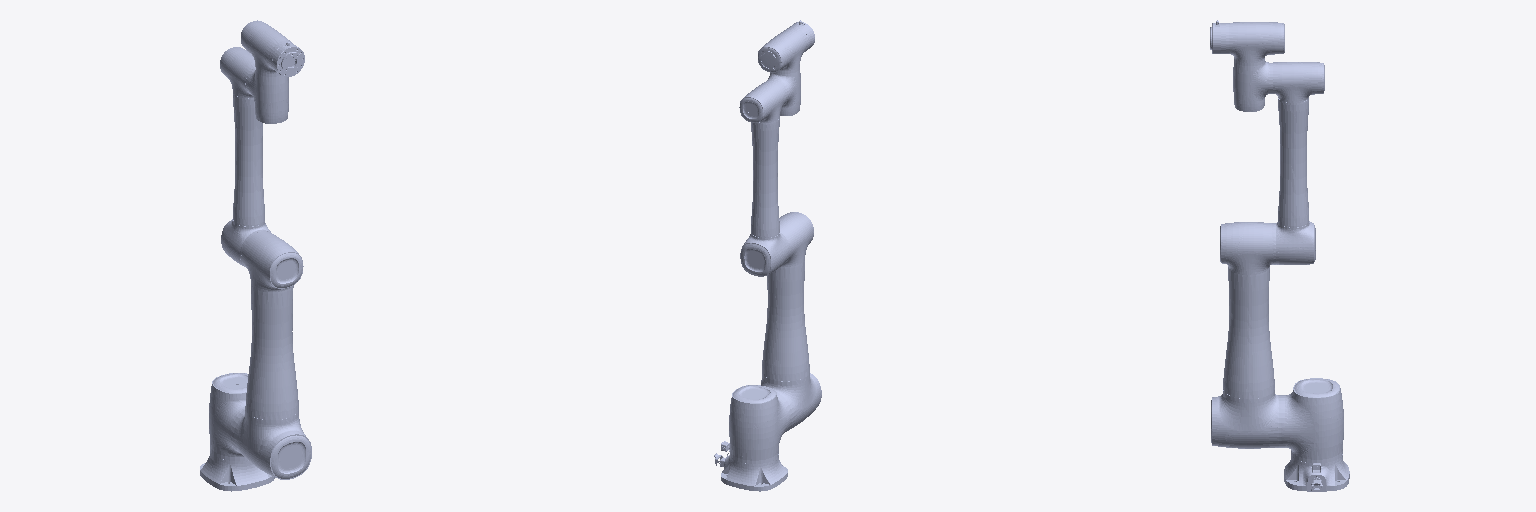
The robot description file, URDF, robot "cr12_robot":
<?xml version="1.0" ?>
<!-- This URDF was automatically created by SolidWorks to URDF Exporter! Originally created by [author] ([email redacted]) 
     Commit Version: 1.6.0-1-g15f4949  Build Version: 1.6.7594.29634
     For more information, please see http://wiki.ros.org/sw_urdf_exporter -->
<robot name="cr12_robot">
    <link name="dummy_link" />
    <link name="base_link">
        <inertial>
            <origin xyz="-0.00174386341900778 -4.3102660432092E-06 0.0327740188891512" rpy="0 0 0" />
            <mass value="1.82652439038323" />
            <inertia ixx="0.00417310093970523" ixy="5.83590024362277E-07" ixz="2.52017746820122E-05" iyy="0.00431292894874216" iyz="-5.50196168357807E-07" izz="0.00677037749045351" />
        </inertial>
        <visual>
            <origin xyz="0 0 0" rpy="0 0 3.1415926" />
            <geometry>
                <mesh filename="package://dobot_description/meshes/cr12/base_link0.STL" />
            </geometry>
            <material name="">
                <color rgba="0.792156862745098 0.819607843137255 0.933333333333333 1" />
            </material>
        </visual>
        <collision>
            <origin xyz="0 0 0" rpy="0 0 0" />
            <geometry>
                <mesh filename="package://dobot_description/meshes/cr12/base_link0.STL" />
            </geometry>
        </collision>
    </link>
    <joint name="dummy_joint" type="fixed">
        <parent link="dummy_link" />
        <child link="base_link" />
    </joint>
    <link name="Link1">
        <inertial>
            <origin xyz="-1.37534797728969E-06 -0.010818985747522 0.00283913459985077" rpy="0 0 0" />
            <mass value="4.16489342634843" />
            <inertia ixx="0.0207143914764674" ixy="-1.71477265326949E-07" ixz="1.48900578943356E-07" iyy="0.0188243425992646" iyz="-9.67726083488097E-05" izz="0.0145747311500779" />
        </inertial>
        <visual>
            <origin xyz="0 0 0" rpy="0 0 0" />
            <geometry>
                <mesh filename="package://dobot_description/meshes/cr12/J1.STL" />
            </geometry>
            <material name="">
                <color rgba="0.792156862745098 0.819607843137255 0.933333333333333 1" />
            </material>
        </visual>
        <collision>
            <origin xyz="0 0 0" rpy="0 0 0" />
            <geometry>
                <mesh filename="package://dobot_description/meshes/cr12/J1.STL" />
            </geometry>
        </collision>
    </link>
    <joint name="joint1" type="revolute">
        <origin xyz="0 0 0.1765" rpy="0 0 0" />
        <parent link="base_link" />
        <child link="Link1" />
        <axis xyz="0 0 1" />
        <limit lower="-6.28" upper="6.28" effort="0" velocity="0" />
    </joint>
    <link name="Link2">
        <inertial>
            <origin xyz="-0.223767091035558 1.97703924756219E-06 0.195156050522682" rpy="0 0 0" />
            <mass value="10.7566467621837" />
            <inertia ixx="0.0326526063620568" ixy="-1.51156258660237E-07" ixz="-0.000223174773070963" iyy="0.090350086723318" iyz="-3.82558055552048E-08" izz="0.0832869144009416" />
        </inertial>
        <visual>
            <origin xyz="0 0 0" rpy="0 0 0" />
            <geometry>
                <mesh filename="package://dobot_description/meshes/cr12/J2.STL" />
            </geometry>
            <material name="">
                <color rgba="0.792156862745098 0.819607843137255 0.933333333333333 1" />
            </material>
        </visual>
        <collision>
            <origin xyz="0 0 0" rpy="0 0 0" />
            <geometry>
                <mesh filename="package://dobot_description/meshes/cr12/J2.STL" />
            </geometry>
        </collision>
    </link>
    <joint name="joint2" type="revolute">
        <origin xyz="0 0 0" rpy="-1.57079631189374 1.57079631189374 3.14159265358979" />
        <parent link="Link1" />
        <child link="Link2" />
        <axis xyz="0 0 1" />
        <limit lower="-6.28" upper="6.28" effort="0" velocity="0" />
    </joint>
    <link name="Link3">
        <inertial>
            <origin xyz="-0.24640374456178 -0.000510146477780238 -0.00440945988898146" rpy="0 0 0" />
            <mass value="4.44492218267047" />
            <inertia ixx="0.00647901084166721" ixy="-1.29118176753282E-05" ixz="-6.6427420024956E-05" iyy="0.0324286706770424" iyz="-3.14906273861604E-08" izz="0.0313147150452366" />
        </inertial>
        <visual>
            <origin xyz="0 0 0" rpy="0 0 0" />
            <geometry>
                <mesh filename="package://dobot_description/meshes/cr12/J3.STL" />
            </geometry>
            <material name="">
                <color rgba="0.792156862745098 0.819607843137255 0.933333333333333 1" />
            </material>
        </visual>
        <collision>
            <origin xyz="0 0 0" rpy="0 0 0" />
            <geometry>
                <mesh filename="package://dobot_description/meshes/cr12/J3.STL" />
            </geometry>
        </collision>
    </link>
    <joint name="joint3" type="revolute">
        <origin xyz="-0.557 0 0.066" rpy="0 0 0" />
        <parent link="Link2" />
        <child link="Link3" />
        <axis xyz="0 0 1" />
        <limit lower="-2.79" upper="2.79" effort="0" velocity="0" />
    </joint>
    <link name="Link4">
        <inertial>
            <origin xyz="-7.01031581606983E-07 0.00798722726876111 -0.00589109083017275" rpy="0 0 0" />
            <mass value="1.16884432986471" />
            <inertia ixx="0.0029261465071409" ixy="1.22319250229627E-08" ixz="-8.63788919827346E-09" iyy="0.0015005661839772" iyz="-5.45038632945467E-05" izz="0.00273281041224196" />
        </inertial>
        <visual>
            <origin xyz="0 0 0" rpy="0 0 0" />
            <geometry>
                <mesh filename="package://dobot_description/meshes/cr12/J4.STL" />
            </geometry>
            <material name="">
                <color rgba="0.792156862745098 0.819607843137255 0.933333333333333 1" />
            </material>
        </visual>
        <collision>
            <origin xyz="0 0 0" rpy="0 0 0" />
            <geometry>
                <mesh filename="package://dobot_description/meshes/cr12/J4.STL" />
            </geometry>
        </collision>
    </link>
    <joint name="joint4" type="revolute">
        <origin xyz="-0.518 0 0.125" rpy="0 0 -1.5707963267949" />
        <parent link="Link3" />
        <child link="Link4" />
        <axis xyz="0 0 1" />
        <limit lower="-6.28" upper="6.28" effort="0" velocity="0" />
    </joint>
    <link name="Link5">
        <inertial>
            <origin xyz="1.64458124565686E-06 -0.0145441441749841 -0.00455069032206956" rpy="0 0 0" />
            <mass value="1.22295412816384" />
            <inertia ixx="0.0033787624110679" ixy="1.10205449778373E-07" ixz="-6.92742655995963E-08" iyy="0.00149245257753668" iyz="8.40896480888549E-05" izz="0.00323280819225504" />
        </inertial>
        <visual>
            <origin xyz="0 0 0" rpy="0 0 0" />
            <geometry>
                <mesh filename="package://dobot_description/meshes/cr12/J5.STL" />
            </geometry>
            <material name="">
                <color rgba="0.792156862745098 0.819607843137255 0.933333333333333 1" />
            </material>
        </visual>
        <collision>
            <origin xyz="0 0 0" rpy="0 0 0" />
            <geometry>
                <mesh filename="package://dobot_description/meshes/cr12/J5.STL" />
            </geometry>
        </collision>
    </link>
    <joint name="joint5" type="revolute">
        <origin xyz="0 -0.125 0" rpy="1.5707963267949 0 0" />
        <parent link="Link4" />
        <child link="Link5" />
        <axis xyz="0 0 0.999999999998195" />
        <limit lower="-6.28" upper="6.28" effort="0" velocity="0" />
    </joint>
    <link name="Link6">
        <inertial>
            <origin xyz="-9.58443207154593E-07 2.26928935573856E-05 -0.0207179881601325" rpy="0 0 0" />
            <mass value="0.207145060608753" />
            <inertia ixx="0.000111982690153381" ixy="-1.49955926525001E-12" ixz="-9.29699383821086E-10" iyy="0.000112529567571298" iyz="3.68689126983289E-08" izz="0.000208486247949099" />
        </inertial>
        <visual>
            <origin xyz="0 0 0" rpy="0 0 0" />
            <geometry>
                <mesh filename="package://dobot_description/meshes/cr12/J6.STL" />
            </geometry>
            <material name="">
                <color rgba="0.792156862745098 0.819607843137255 0.933333333333333 1" />
            </material>
        </visual>
        <collision>
            <origin xyz="0 0 0" rpy="0 0 0" />
            <geometry>
                <mesh filename="package://dobot_description/meshes/cr12/J6.STL" />
            </geometry>
        </collision>
    </link>
    <joint name="joint6" type="revolute">
        <origin xyz="0 0.111400161474884 0" rpy="-1.5707963267949 0 0" />
        <parent link="Link5" />
        <child link="Link6" />
        <axis xyz="0 0 1" />
        <limit lower="-6.28" upper="6.28" effort="0" velocity="0" />
    </joint>
    <transmission name="trans_joint1">
        <type>transmission_interface/SimpleTransmission</type>
        <joint name="joint1">
            <hardwareInterface>hardware_interface/EffortJointInterface</hardwareInterface>
        </joint>
        <actuator name="joint1_motor">
            <hardwareInterface>hardware_interface/EffortJointInterface</hardwareInterface>
            <mechanicalReduction>1</mechanicalReduction>
        </actuator>
    </transmission>
    <transmission name="trans_joint2">
        <type>transmission_interface/SimpleTransmission</type>
        <joint name="joint2">
            <hardwareInterface>hardware_interface/EffortJointInterface</hardwareInterface>
        </joint>
        <actuator name="joint2_motor">
            <hardwareInterface>hardware_interface/EffortJointInterface</hardwareInterface>
            <mechanicalReduction>1</mechanicalReduction>
        </actuator>
    </transmission>
    <transmission name="trans_joint3">
        <type>transmission_interface/SimpleTransmission</type>
        <joint name="joint3">
            <hardwareInterface>hardware_interface/EffortJointInterface</hardwareInterface>
        </joint>
        <actuator name="joint3_motor">
            <hardwareInterface>hardware_interface/EffortJointInterface</hardwareInterface>
            <mechanicalReduction>1</mechanicalReduction>
        </actuator>
    </transmission>
    <transmission name="trans_joint4">
        <type>transmission_interface/SimpleTransmission</type>
        <joint name="joint4">
            <hardwareInterface>hardware_interface/EffortJointInterface</hardwareInterface>
        </joint>
        <actuator name="joint4_motor">
            <hardwareInterface>hardware_interface/EffortJointInterface</hardwareInterface>
            <mechanicalReduction>1</mechanicalReduction>
        </actuator>
    </transmission>
    <transmission name="trans_joint5">
        <type>transmission_interface/SimpleTransmission</type>
        <joint name="joint5">
            <hardwareInterface>hardware_interface/EffortJointInterface</hardwareInterface>
        </joint>
        <actuator name="joint5_motor">
            <hardwareInterface>hardware_interface/EffortJointInterface</hardwareInterface>
            <mechanicalReduction>1</mechanicalReduction>
        </actuator>
    </transmission>
    <transmission name="trans_joint6">
        <type>transmission_interface/SimpleTransmission</type>
        <joint name="joint6">
            <hardwareInterface>hardware_interface/EffortJointInterface</hardwareInterface>
        </joint>
        <actuator name="joint6_motor">
            <hardwareInterface>hardware_interface/EffortJointInterface</hardwareInterface>
            <mechanicalReduction>1</mechanicalReduction>
        </actuator>
    </transmission>
    <gazebo>
        <plugin name="gazebo_ros_control">
            <robotNamespace>/</robotNamespace>
        </plugin>
    </gazebo>
</robot>

--- Render facts (derived) ---
Views: 3 orthographic renders of the robot side by side, from view 1: azimuth 30°, elevation 25°; view 2: azimuth 150°, elevation 25°; view 3: azimuth 270°, elevation 25°.
Robot: cr12_robot — 8 links, 7 joints (6 revolute, 1 fixed); root link dummy_link; default pose: every joint at zero.
Visible links, largest first — view 1: Link2, Link3, Link1, Link4, base_link, Link5, Link6; view 2: Link2, Link3, Link1, base_link, Link5, Link4; view 3: Link2, Link3, Link1, Link5, base_link, Link4.
Link boxes in pixels (<box>): Link2: <box>232,230,311,479</box>; Link3: <box>220,47,270,266</box>; Link1: <box>209,373,247,460</box>; Link4: <box>246,67,288,123</box>; base_link: <box>200,451,274,491</box>; Link5: <box>241,20,291,73</box>; Link6: <box>270,42,304,76</box>; Link2: <box>761,212,821,431</box>; Link3: <box>739,79,789,276</box>; Link1: <box>729,385,791,463</box>; base_link: <box>714,441,787,491</box>; Link5: <box>758,26,808,72</box>; Link4: <box>768,67,800,115</box>; Link2: <box>1211,222,1280,448</box>; Link3: <box>1273,62,1324,264</box>; Link1: <box>1281,378,1343,462</box>; Link5: <box>1226,22,1284,62</box>; base_link: <box>1284,454,1349,491</box>; Link4: <box>1233,59,1272,111</box>.
Bounding box of the posed robot: 0.2318 × 0.3954 × 1.43 m (x, y, z).
Meshes: 7 distinct files referenced, 7 mesh visuals loaded (7 binary STL).